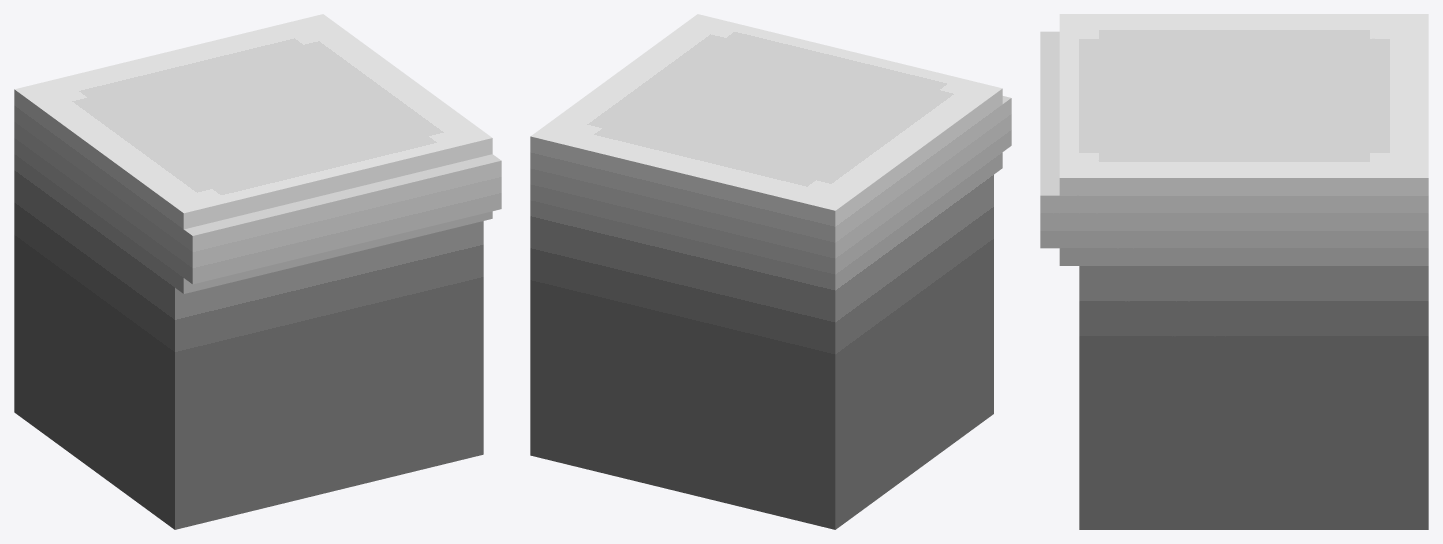
File: full_top_edge.glb
3 views of the same model, side by side, from view 1: azimuth 30°, elevation 25°; view 2: azimuth 150°, elevation 25°; view 3: azimuth 270°, elevation 25° (orthographic). The views are drawn at different scales.
Parts seen in each view (by area): view 1: full_top_edge; view 2: full_top_edge; view 3: full_top_edge.
Part boxes in pixels (<box>): full_top_edge: <box>14,14,501,529</box>; full_top_edge: <box>530,14,1011,529</box>; full_top_edge: <box>1040,14,1428,529</box>.
Size of the model in its own units: 2 by 2 by 2.
1 material, 1 textured.
